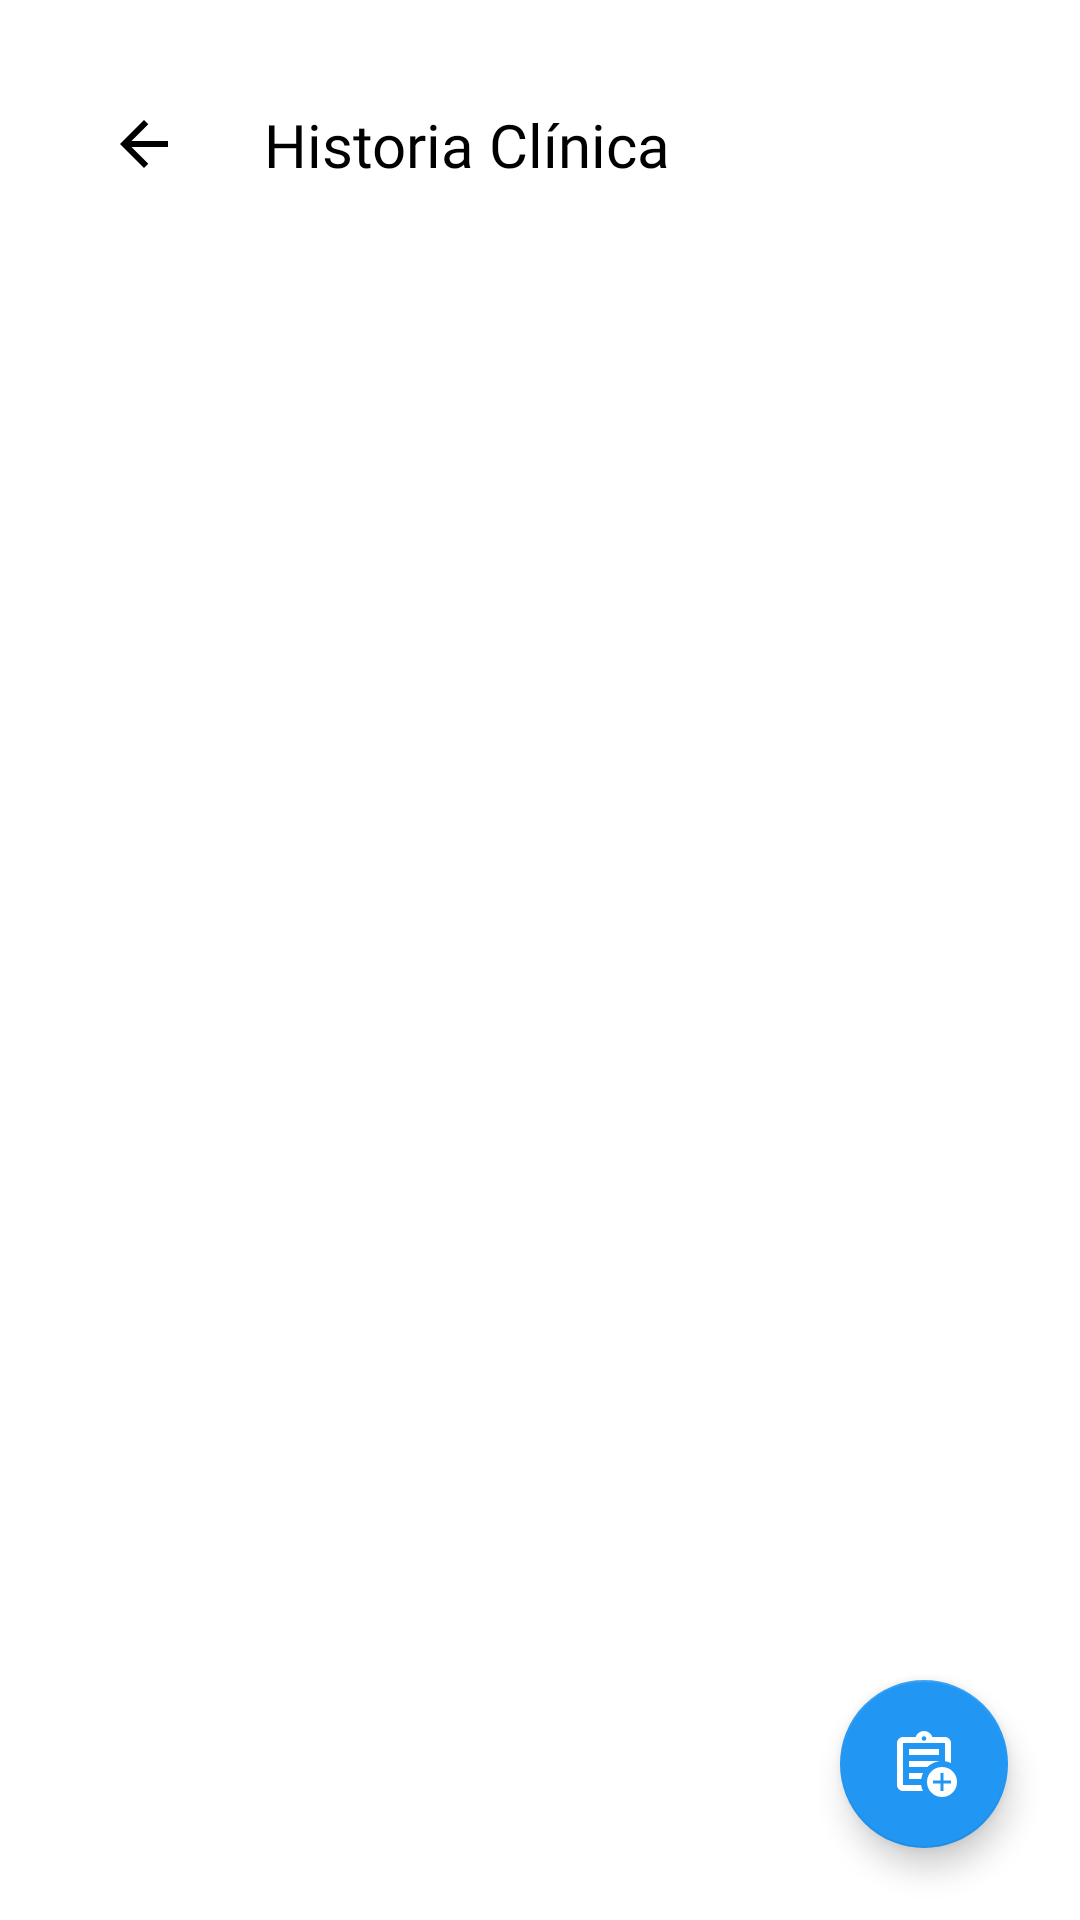

Icon bounding boxes for this 1080px x 1920px phone screenshot, format (x1, y1, x2, y2):
addhistoria: (840, 1680, 1008, 1848)
back: (120, 120, 168, 168)
